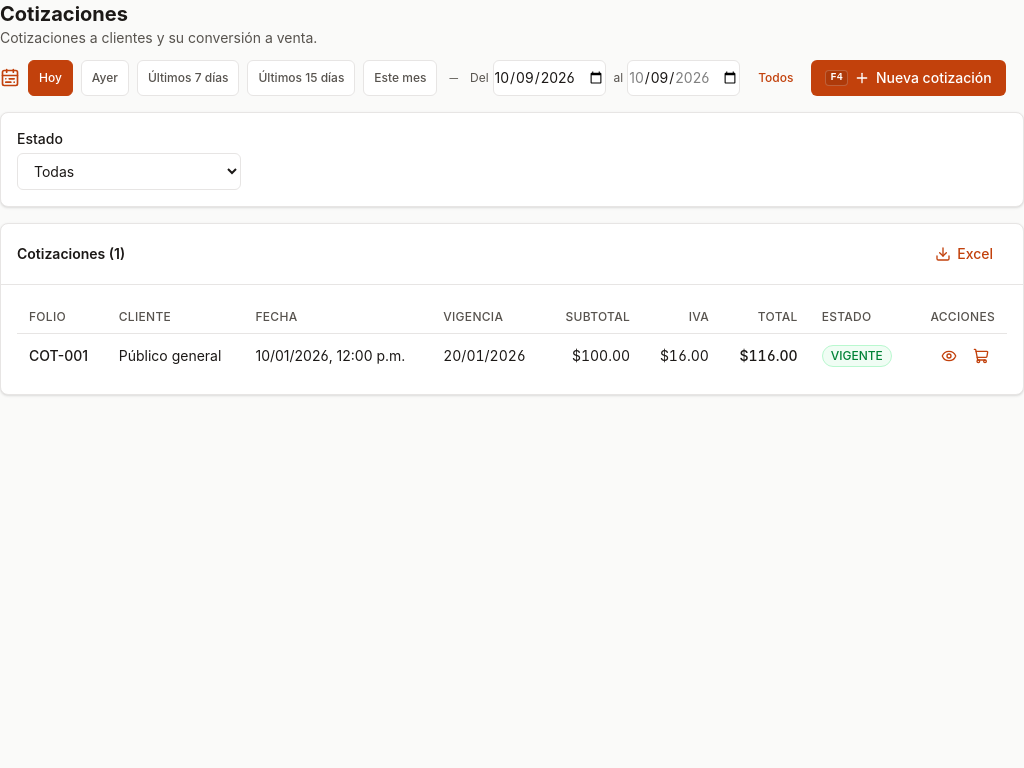
CotizacionesPage › abre el diálogo de convertir a venta
Click the button named "Convertir a venta".
click(981, 356)  # box [967, 342, 995, 370]
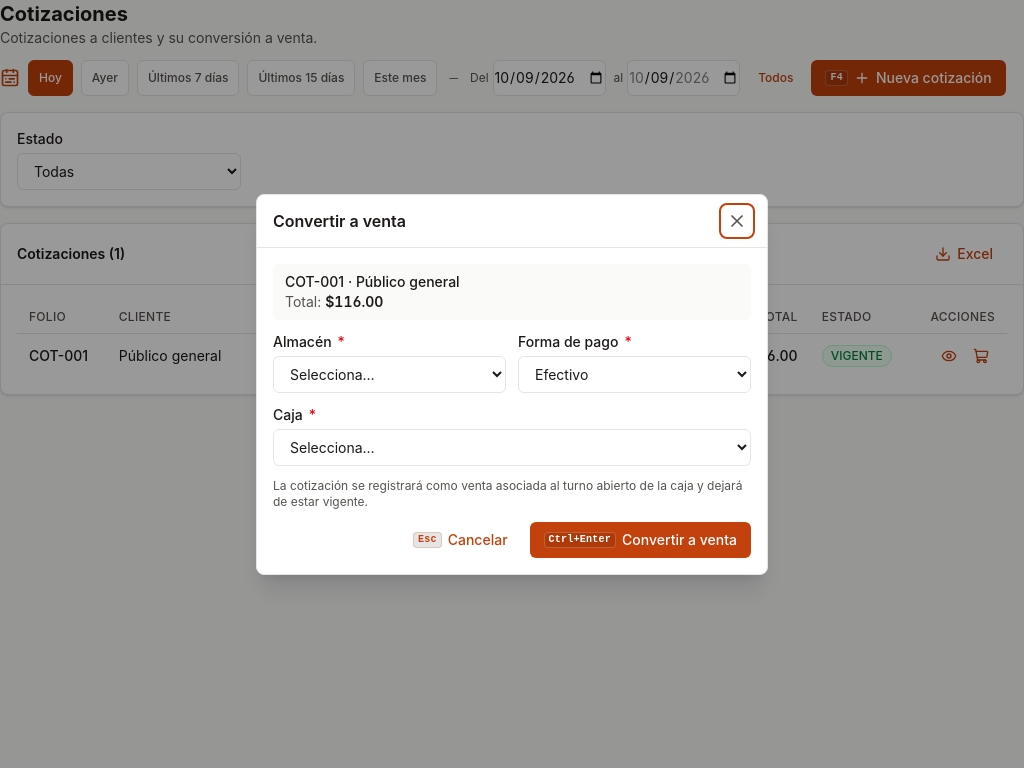
Expected: the dropdown labelled "Almacén *" is shown, [273, 356, 506, 392]
Expected: the dropdown labelled "Caja *" is shown, [273, 428, 751, 466]
Expected: the dropdown labelled "Forma de pago *" is shown, [518, 356, 751, 392]
